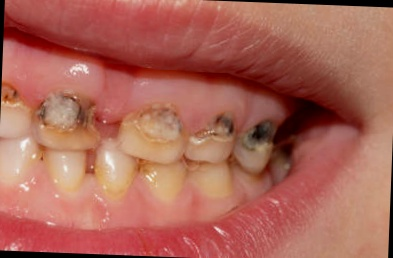Caries: (36, 89, 87, 135), (188, 111, 238, 143), (235, 116, 278, 153)
